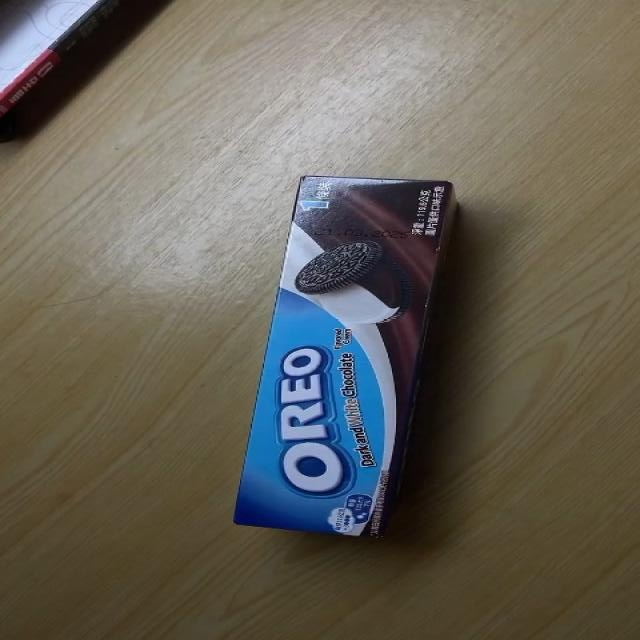Oreo: (232, 175, 454, 542)
